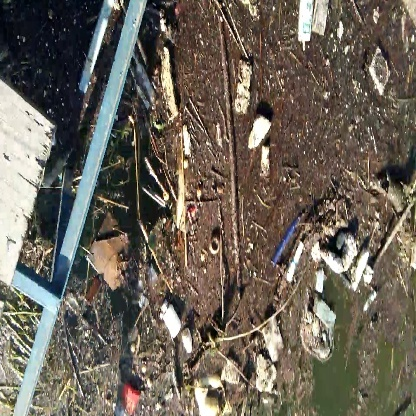branch: (214, 29, 244, 270)
